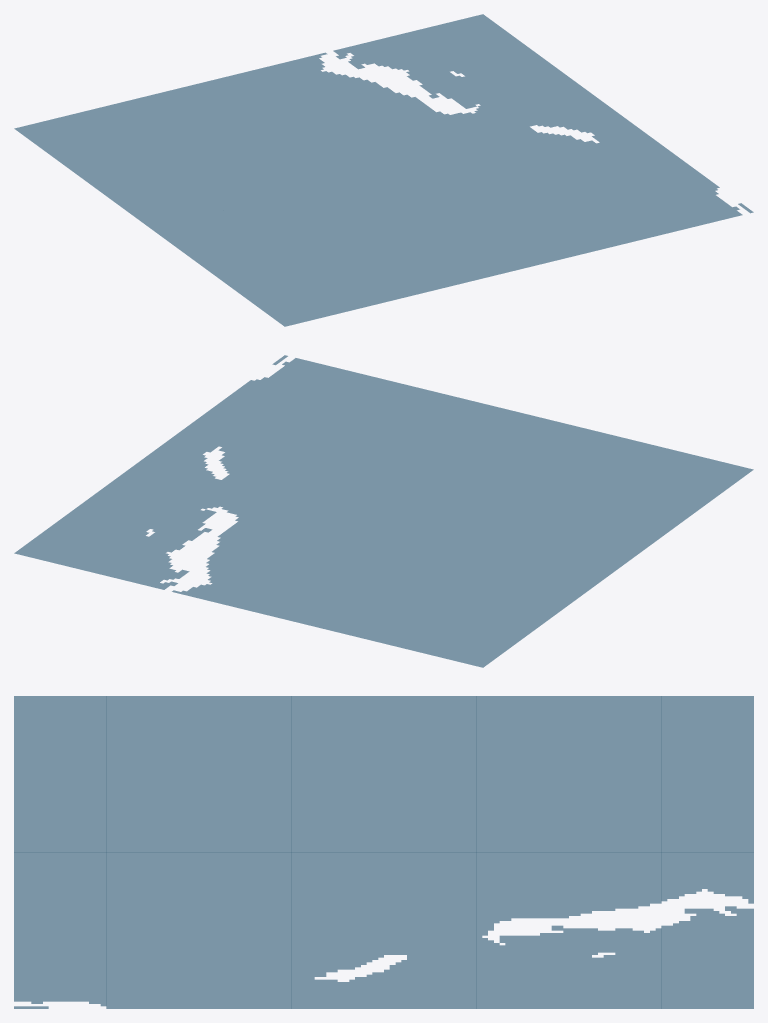
File: chunk_3_4.glb
3 views of the same model, one above another, from view 1: azimuth 30°, elevation 25°; view 2: azimuth 150°, elevation 25°; view 3: azimuth 270°, elevation 25° (orthographic). The views are drawn at different scales.
Parts seen in each view (by area): view 1: Water_3_4; view 2: Water_3_4; view 3: Water_3_4.
Boxes of the visible parts, <box> form: Water_3_4: <box>14,14,753,326</box>; Water_3_4: <box>14,355,753,667</box>; Water_3_4: <box>14,696,753,1008</box>.
Size of the model in its own units: 2048 by 1.08e-06 by 2048.
